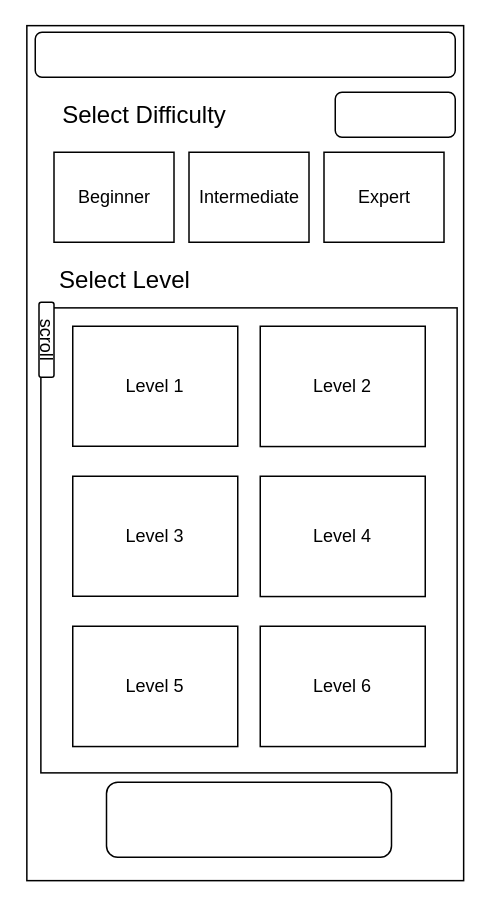
Some shapes in this 491 by 908 pixel diagram are drawn without their labels. Each missing label, with the centre of its shape:
Game Title: the point at 244,54
Settings: the point at 394,114
Start: the point at 248,819
